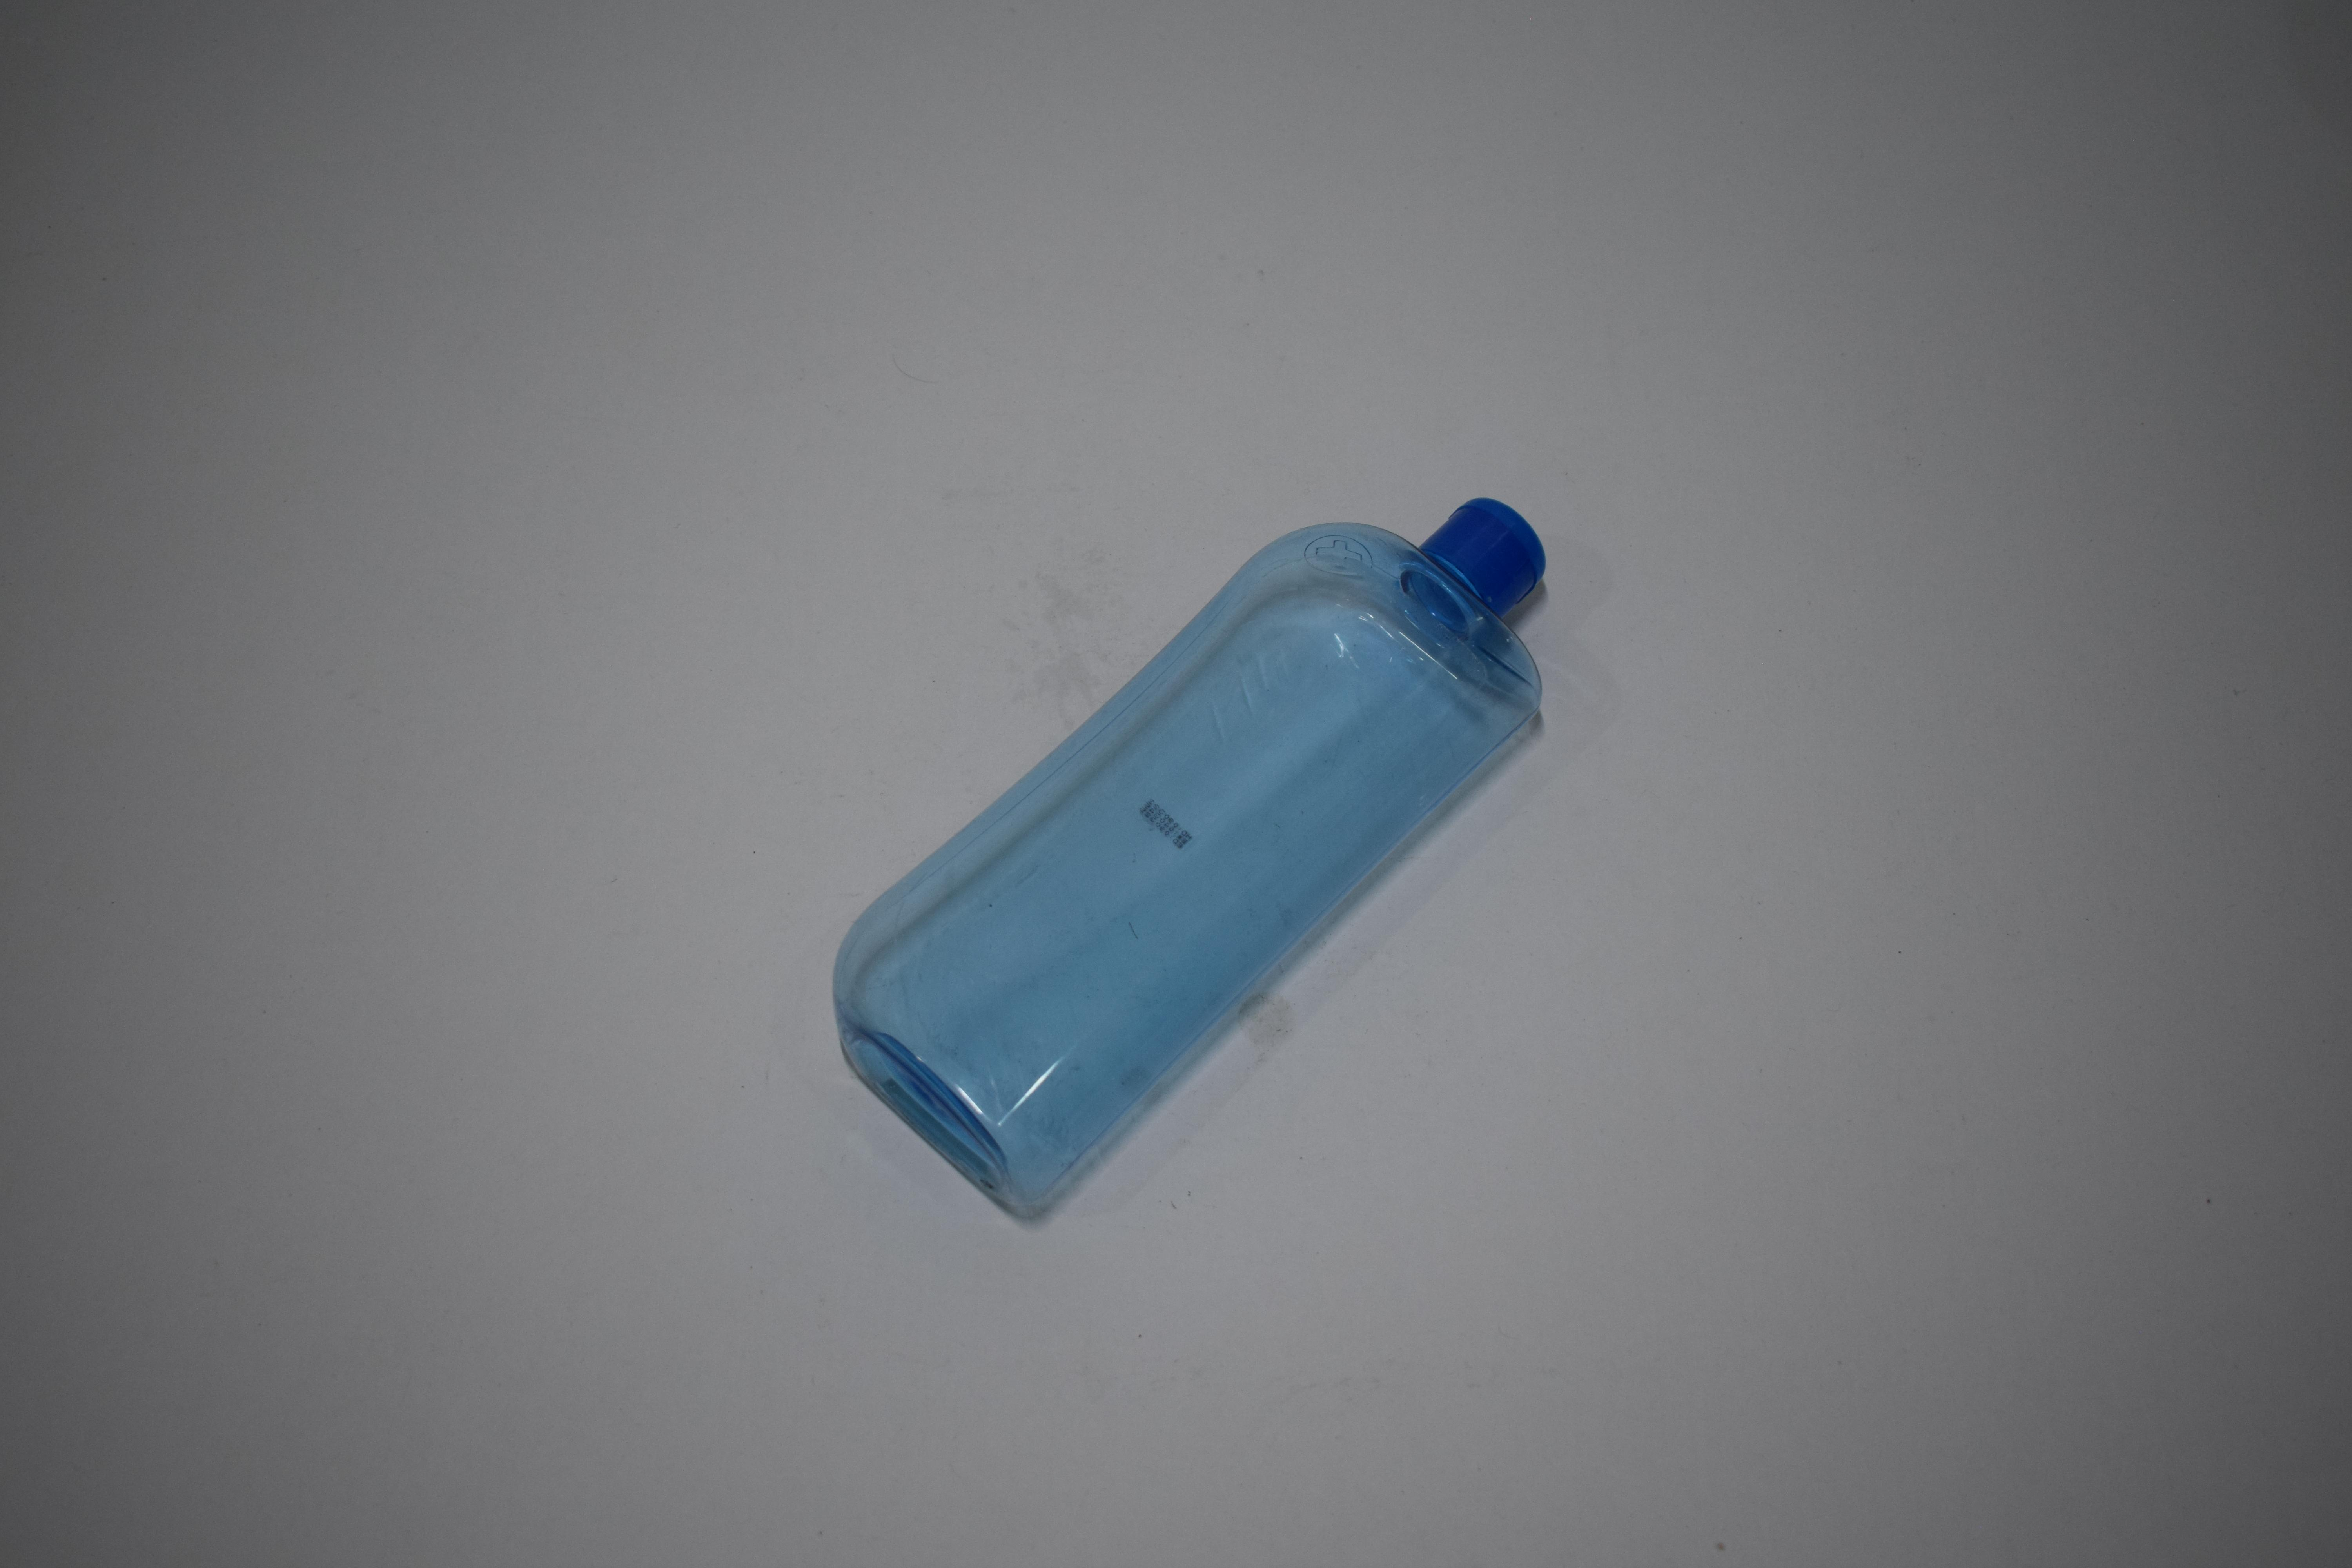bottle: (0, 0, 361, 443)
